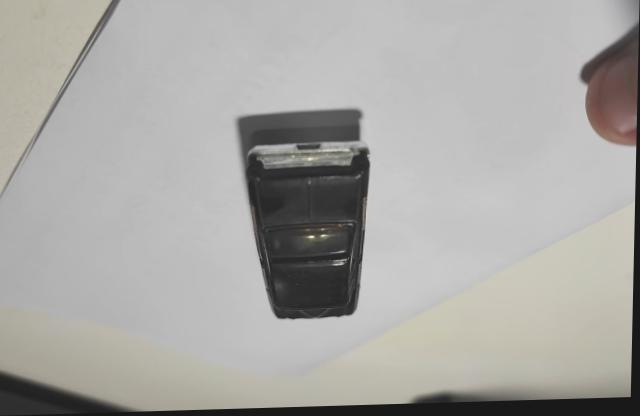01_FORD: (245, 143, 371, 321)
